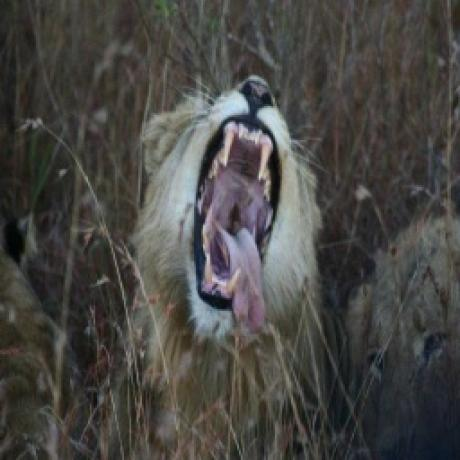Lion: (117, 69, 324, 402)
